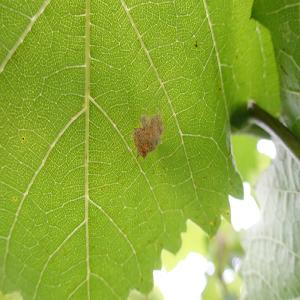Folha: (0, 0, 300, 300)
Fungo: (132, 107, 164, 160), (194, 39, 198, 47), (12, 196, 16, 201), (21, 136, 25, 140)
